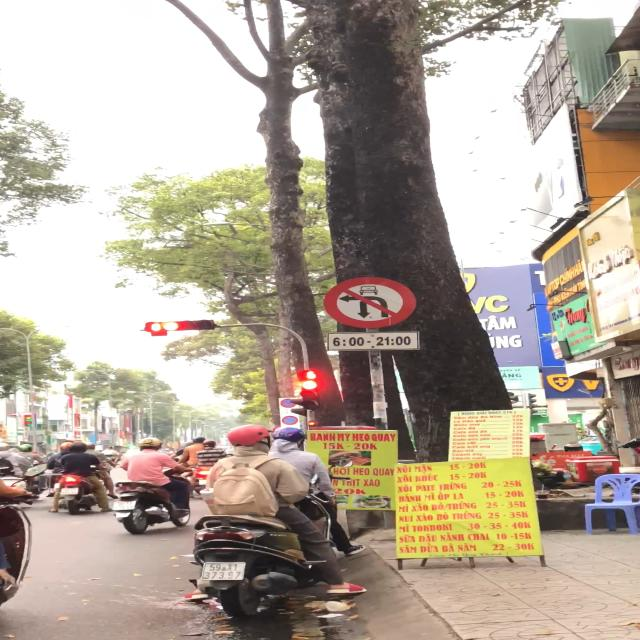Bien bao cam oto re trai va quay dau xe: (320, 274, 419, 332)
